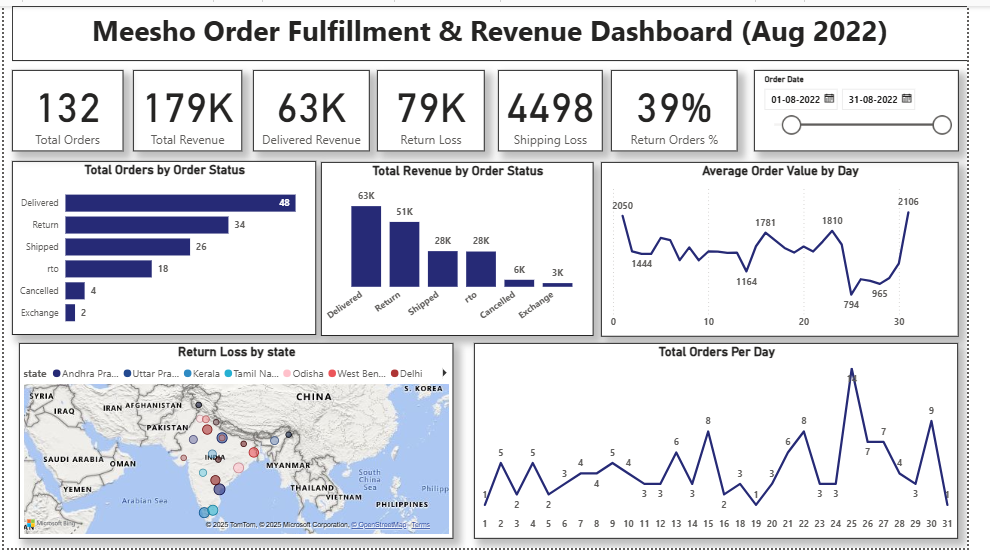

This screenshot's page, from the dashboard's own definition file:
{"tool":"powerbi","page":{"name":"Page 3","canvas":[1280,720],"ordinal":1},"visuals":[{"type":"textbox","box":[10.2,0,1270.2,73.2],"z":0},{"type":"card","fields":{"Values":["meesho.Total Revenue"]},"box":[171.7,85,145,108.3],"z":1000},{"type":"card","fields":{"Values":["meesho.Delivered Revenue"]},"box":[330.7,84.9,155.1,108.3],"z":2000},{"type":"card","fields":{"Values":["meesho.Return Loss"]},"box":[496.1,84.9,143.4,108.3],"z":3000},{"type":"card","fields":{"Values":["meesho.Shipping Loss"]},"box":[655.6,84.9,139,108.3],"z":4000},{"type":"barChart","title":"Total Orders by Order Status","fields":{"Y":["meesho.Total Orders"],"Category":["meesho.order_status"]},"box":[10.2,206.3,403.9,231.2],"z":5000},{"type":"card","fields":{"Values":["meesho.Return Orders %"]},"box":[806.3,84.9,168.3,108.3],"z":6000},{"type":"card","fields":{"Values":["meesho.Total Orders"]},"box":[10.2,84.9,147.8,108.3],"z":7000},{"type":"columnChart","title":"Total Revenue by Order Status","fields":{"Y":["meesho.Total Revenue"],"Category":["meesho.order_status"]},"box":[421.5,207.7,361.5,230.8],"z":8000},{"type":"map","title":"Return Loss by state","fields":{"Category":["meesho.state"],"Size":["meesho.Return Loss"],"Series":["meesho.state"]},"box":[20,447.7,576.9,260],"z":9000},{"type":"lineChart","fields":{"Category":["meesho.order_date.Variation.Date Hierarchy.Day"],"Y":["meesho.Average Order Value"]},"box":[793.3,206.7,475,231.7],"z":13001},{"type":"lineChart","title":"Total Orders Per Day","fields":{"Category":["meesho.order_date.Variation.Date Hierarchy.Day"],"Y":["meesho.Total Orders"]},"box":[625,448.3,643.3,260],"z":13002},{"type":"slicer","fields":{"Values":["meesho.order_date"]},"box":[996.7,85,271.7,108.3],"z":13003}]}

Visuals, with their boxes in screenshot pixels (x1, y1, x2, y2), scaled from the page's 1280x720 canvas onto the 990x552 screenshot:
textbox: <bbox>8, 0, 989, 56</bbox>
card - meesho.Total Revenue: <bbox>133, 65, 245, 148</bbox>
card - meesho.Delivered Revenue: <bbox>256, 65, 376, 148</bbox>
card - meesho.Return Loss: <bbox>384, 65, 495, 148</bbox>
card - meesho.Shipping Loss: <bbox>507, 65, 615, 148</bbox>
"Total Orders by Order Status" barChart: <bbox>8, 158, 320, 335</bbox>
card - meesho.Return Orders %: <bbox>624, 65, 754, 148</bbox>
card - meesho.Total Orders: <bbox>8, 65, 122, 148</bbox>
"Total Revenue by Order Status" columnChart: <bbox>326, 159, 606, 336</bbox>
"Return Loss by state" map: <bbox>15, 343, 462, 543</bbox>
lineChart - meesho.order_date.Variation.Date Hierarchy.Day x meesho.Average Order Value: <bbox>614, 158, 981, 336</bbox>
"Total Orders Per Day" lineChart: <bbox>483, 344, 981, 543</bbox>
slicer - meesho.order_date: <bbox>771, 65, 981, 148</bbox>
